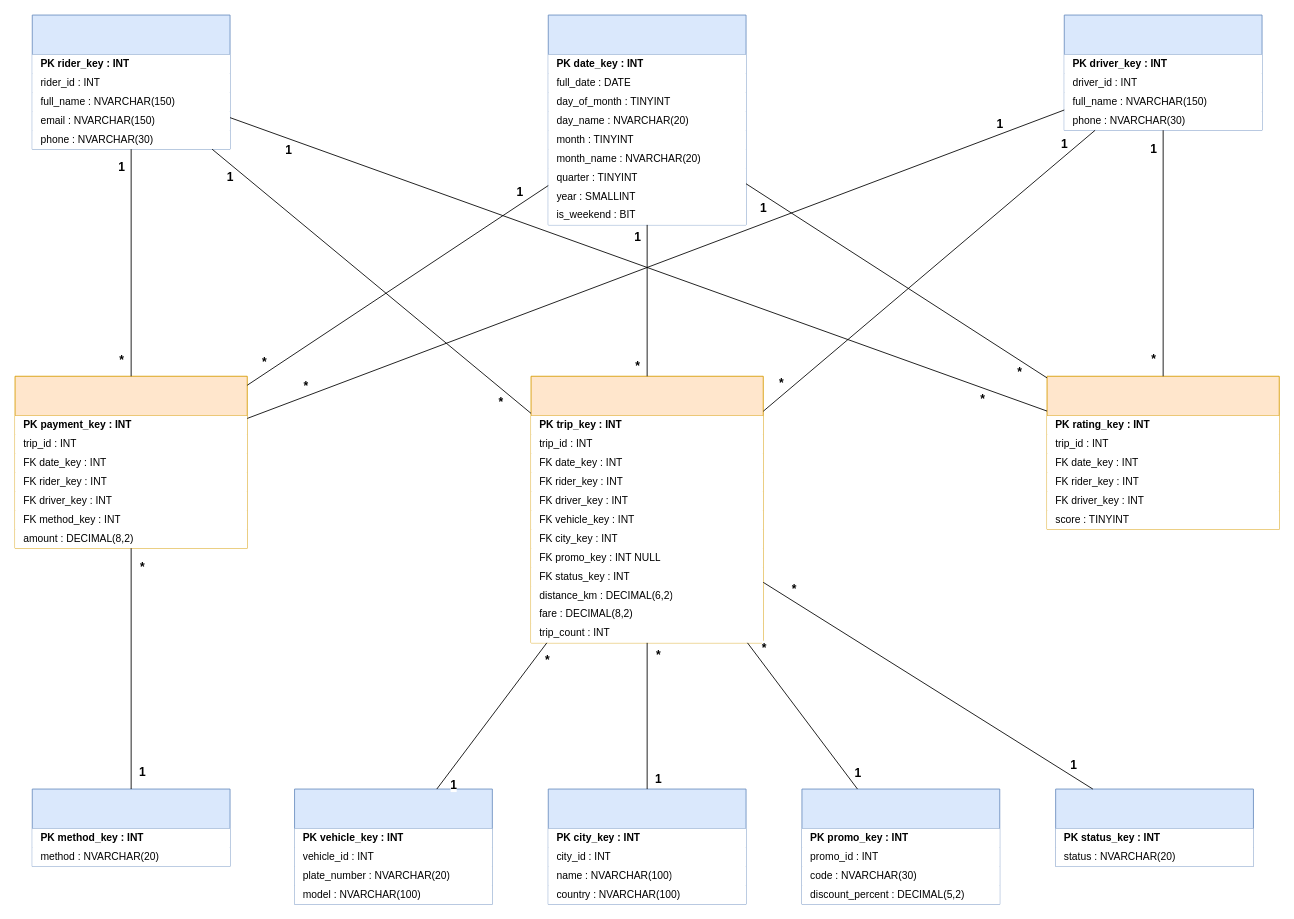
This 1294x919 diagram has some shape labels left out. Here are the shapes that lost their labels. From the top down, the box of each, then its label:
(31, 14, 230, 149): «Dimension» DimRider
(1063, 14, 1262, 130): «Dimension» DimDriver
(547, 14, 746, 225): «Dimension» DimDate
(14, 375, 247, 548): «Fact» FactPayment
(1046, 375, 1279, 529): «Fact» FactRating
(530, 375, 763, 643): «Fact» FactTrip
(31, 788, 230, 866): «Dimension» DimPaymentMethod
(294, 788, 492, 904): «Dimension» DimVehicle
(547, 788, 746, 904): «Dimension» DimCity
(801, 788, 1000, 904): «Dimension» DimPromoCode
(1055, 788, 1253, 866): «Dimension» DimTripStatus
